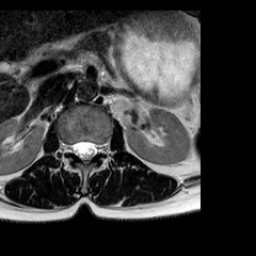CCS_normal: (79, 132, 89, 169)
LFS_normal: (98, 133, 105, 161)
LLS_normal: (89, 133, 98, 165)
RFS_normal: (63, 133, 71, 159)
RLS_normal: (71, 133, 79, 164)
